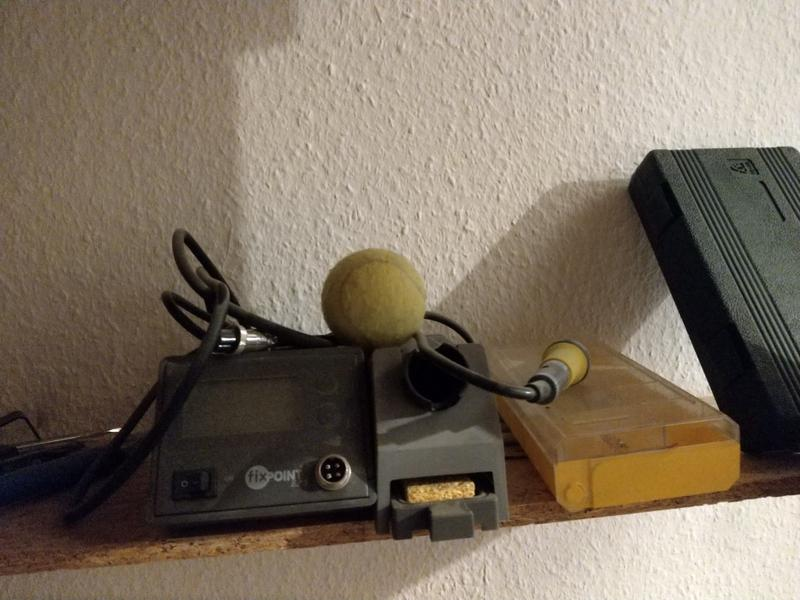Tennisball: (321, 245, 431, 351)
